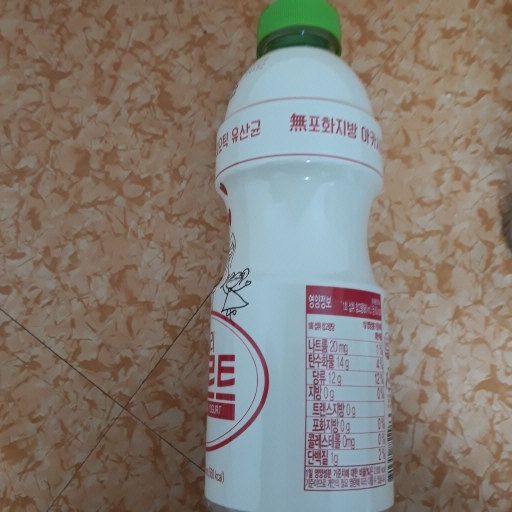Plastic_0: (197, 1, 396, 512)
